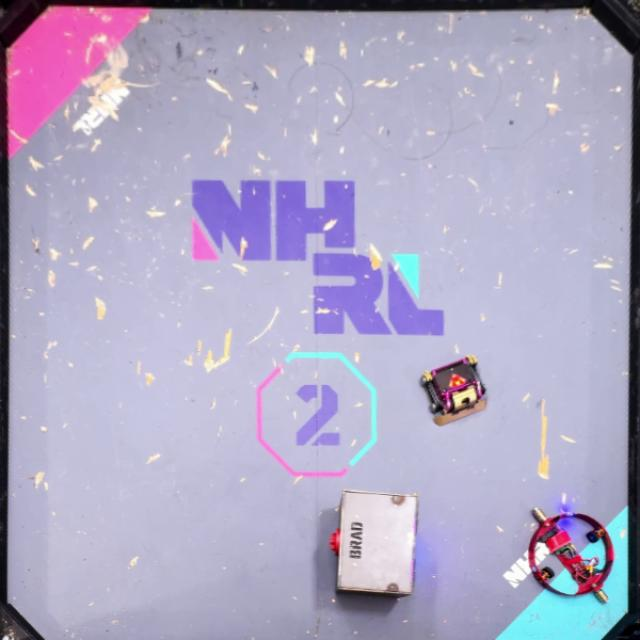housebot: (329, 488, 420, 598)
robot: (529, 506, 615, 603), (419, 355, 489, 426)
